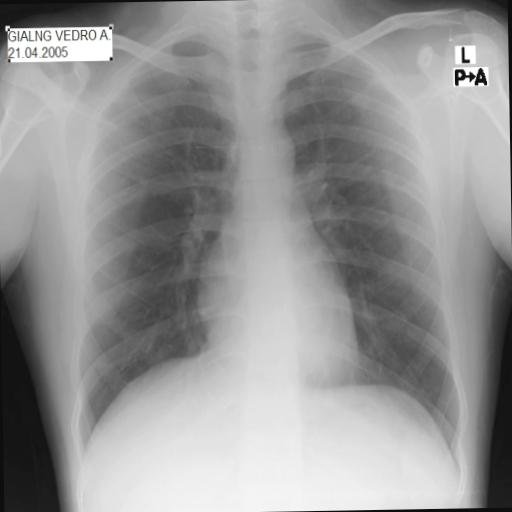normal: (48, 6, 474, 500)
